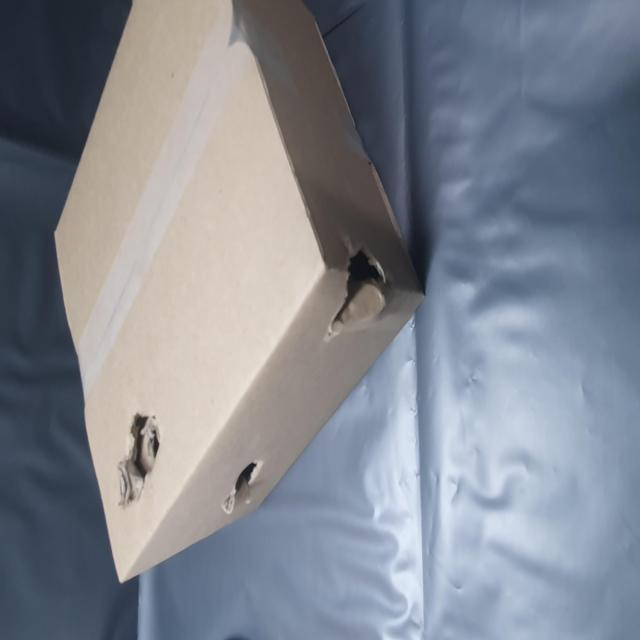damaged: (73, 210, 132, 300)
